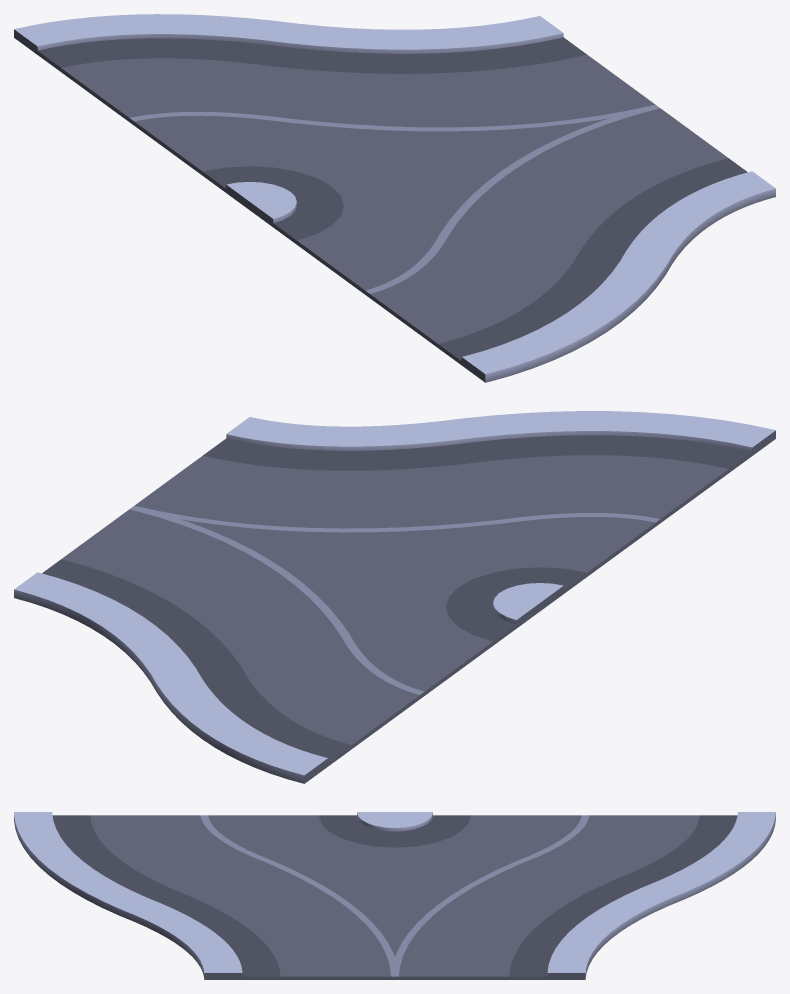
The model's file is road-split.fbx.
The picture shows the model from 3 angles, top to bottom: view 1: azimuth 30°, elevation 25°; view 2: azimuth 150°, elevation 25°; view 3: azimuth 270°, elevation 25°; orthographic projection. The views are drawn at different scales.
Parts seen in each view (by area): view 1: road-split; view 2: road-split; view 3: road-split.
Part boxes in pixels (box(x1,y1,x2,y2)): road-split: box(14, 14, 775, 382); road-split: box(14, 411, 775, 783); road-split: box(14, 812, 775, 979).
Bounding box in the file's own units: 100 × 2 × 200.
